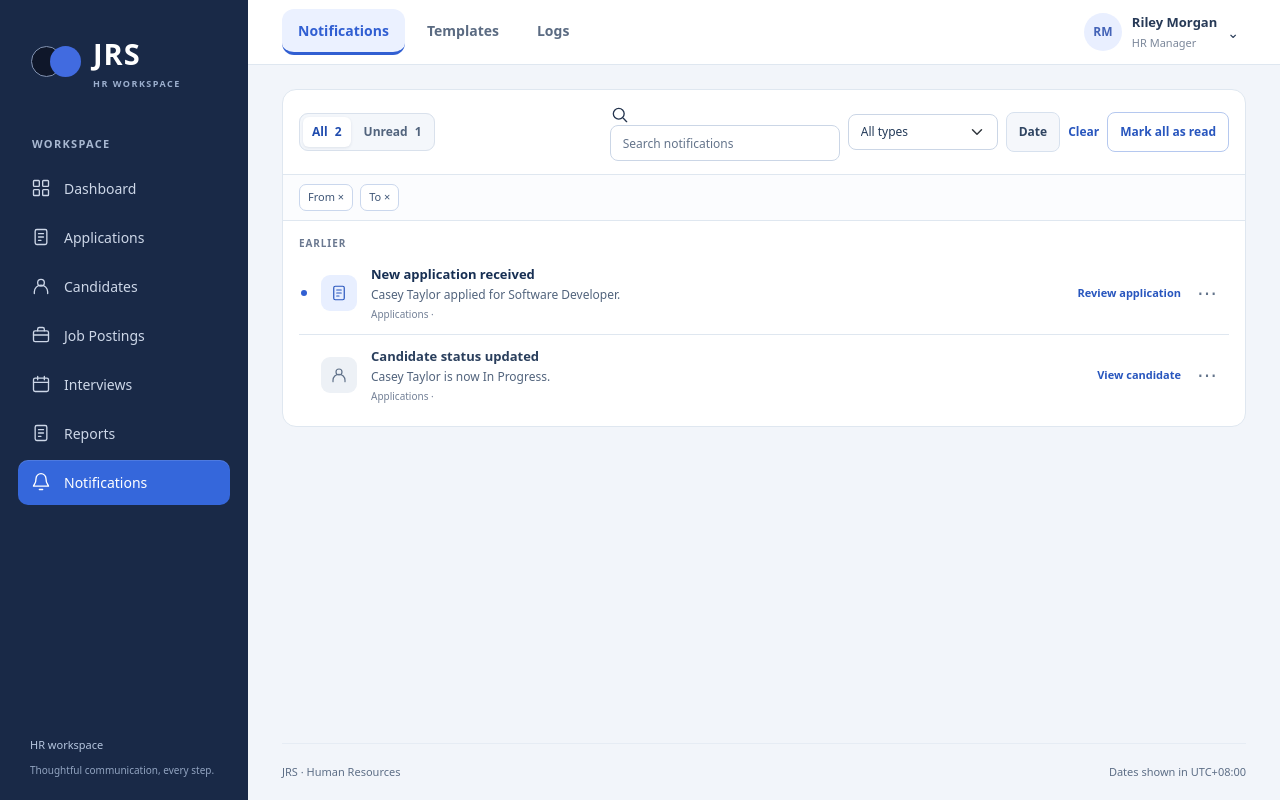
Test: notification workflow › marks all read and restores the affected notifications from Undo
Expected: the text "New application received" is shown, [371,265,535,283]
Click the button "Mark all as read". click: (1168, 132)
box: [1107,112,1229,152]
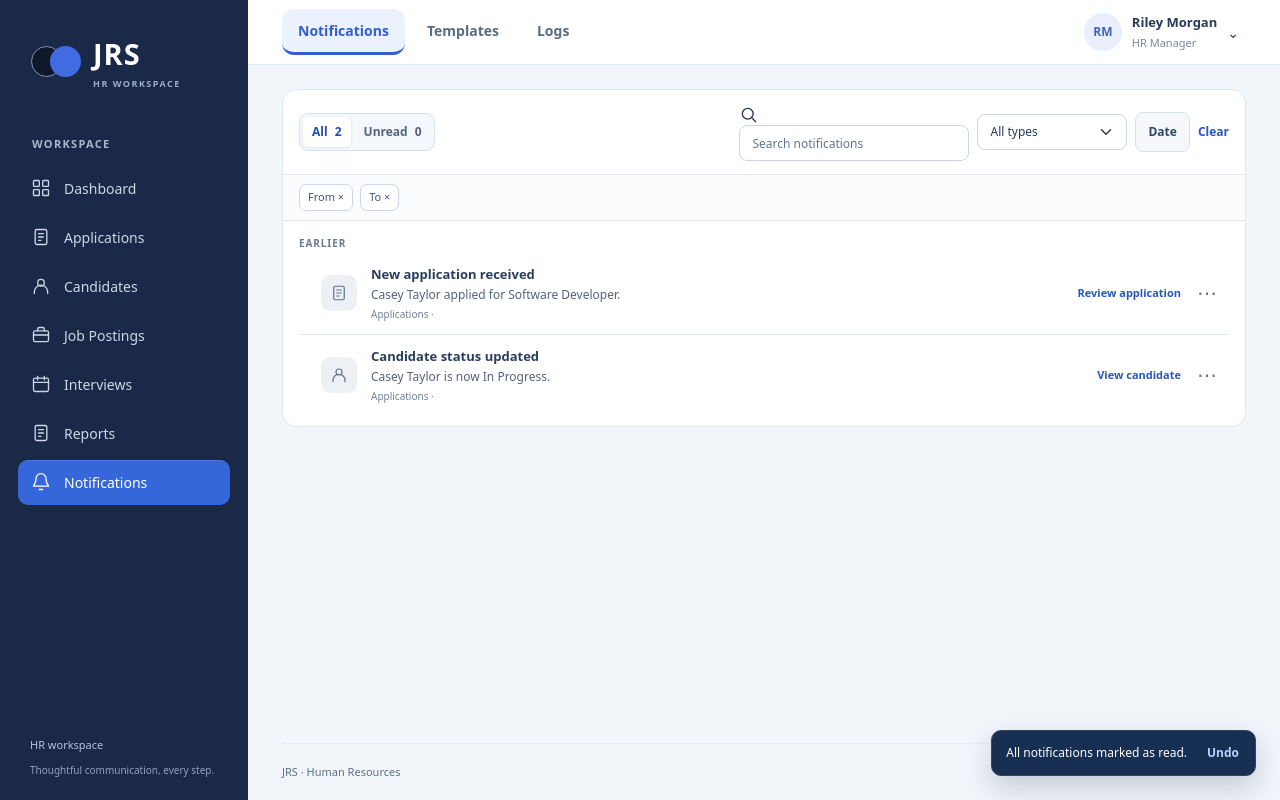
Now the button "Mark all as read" is gone
Click the button "Undo". click: (1223, 753)
box: [1205,742,1241,764]
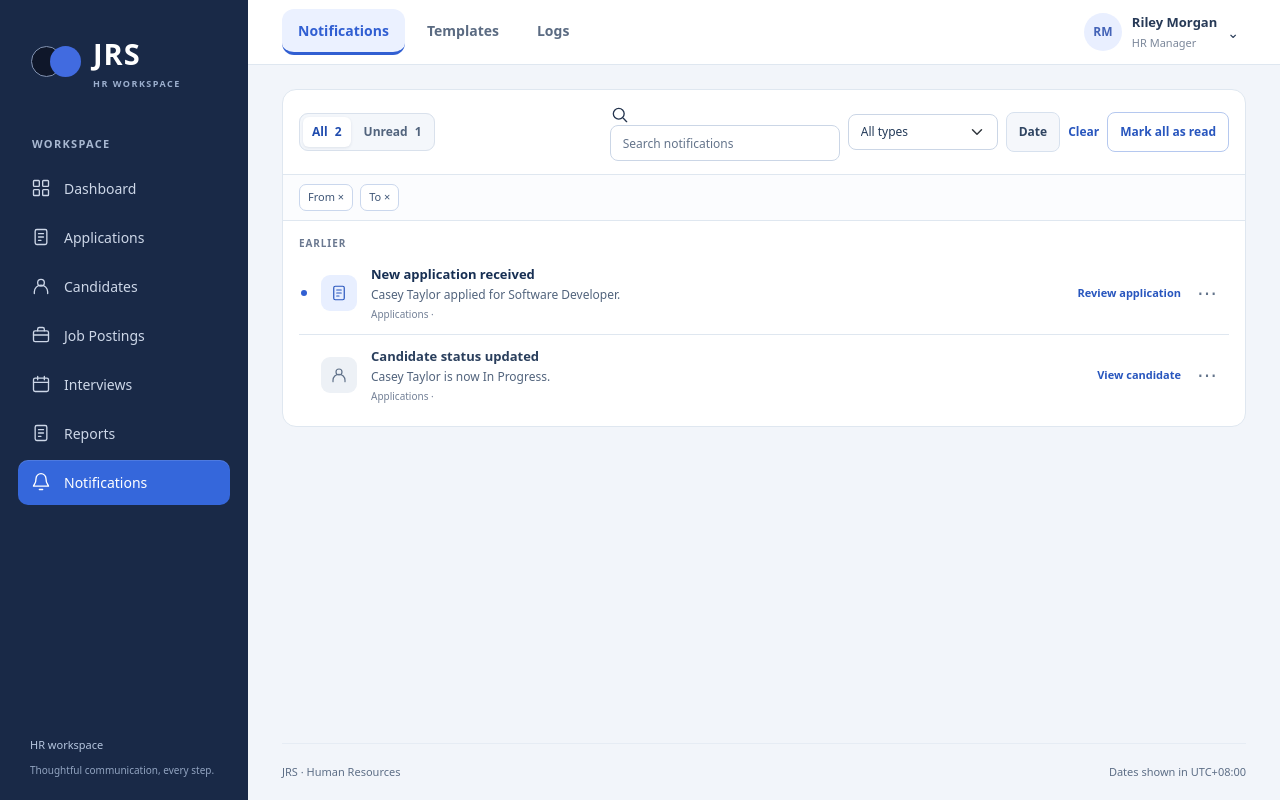
Now the button "Unread 1" is shown, box [355,117,431,147]
